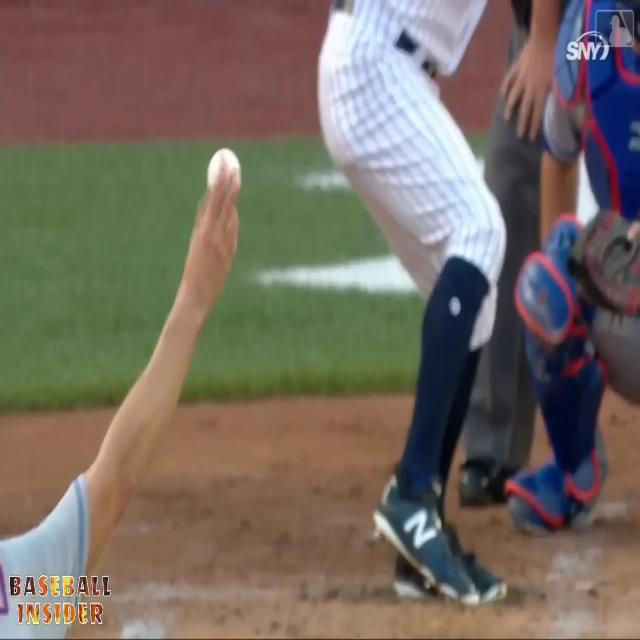baseball: (206, 146, 243, 200)
